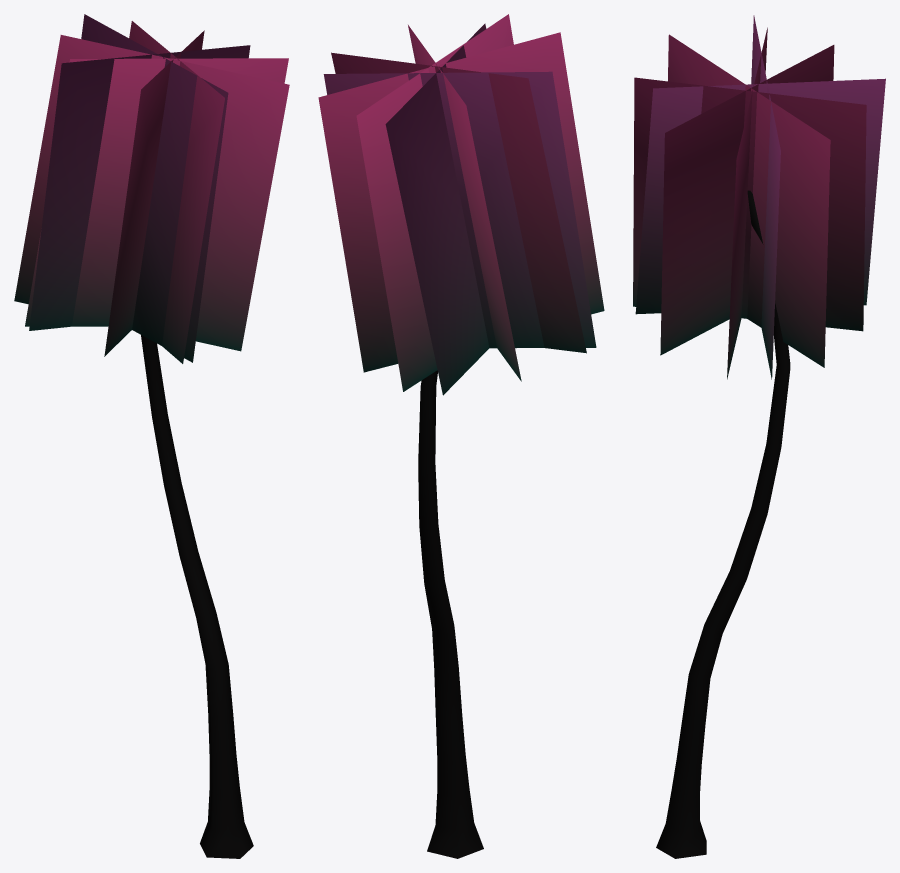
File: Super_Palm_12.fbx
The picture shows the model from 3 angles, left to right: view 1: azimuth 30°, elevation 25°; view 2: azimuth 150°, elevation 25°; view 3: azimuth 270°, elevation 25°; orthographic projection. The views are drawn at different scales.
Visible parts, largest first — view 1: Tree_12; view 2: Tree_12; view 3: Tree_12.
Part boxes in pixels (x1,y1,x2,y2): Tree_12: (14, 14, 289, 858); Tree_12: (318, 14, 604, 858); Tree_12: (633, 15, 885, 858).
Bounding box in the file's own units: 645 × 1905 × 565.
